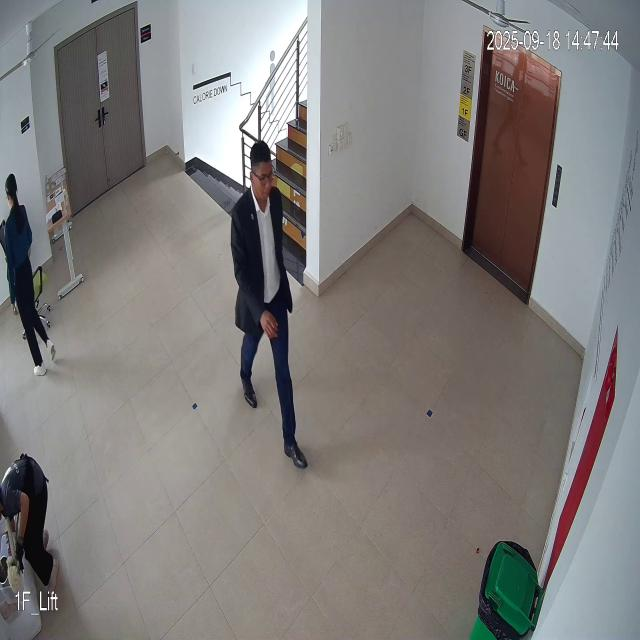face: (248, 136, 275, 209)
